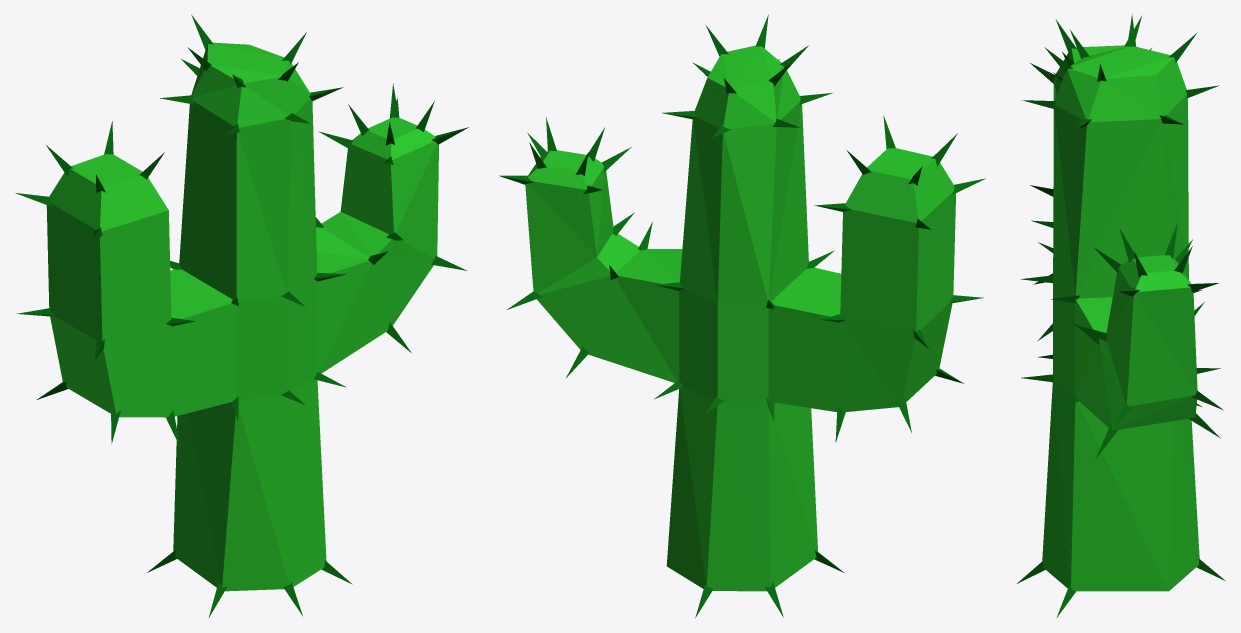
The model's file is cactus.glb.
3 views of the same model, side by side, from view 1: azimuth 30°, elevation 25°; view 2: azimuth 150°, elevation 25°; view 3: azimuth 270°, elevation 25° (orthographic).
Visible parts, largest first — view 1: cactus; view 2: cactus; view 3: cactus.
Part boxes in pixels (<box>): cactus: <box>15,14,468,618</box>; cactus: <box>499,14,985,618</box>; cactus: <box>1017,14,1225,618</box>.
Size of what is drawn, in the model's own units: 2.49 by 2.98 by 1.05.
